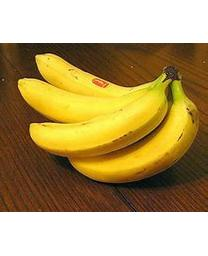banana: (18, 52, 198, 183)
